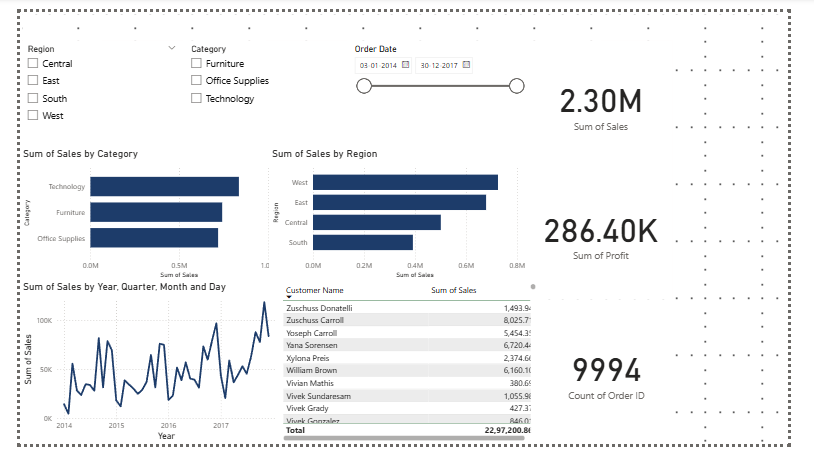

Layout of this report page (visuals, bound fields, positions):
{"tool":"powerbi","page":{"name":"Page 1","canvas":[1280,720],"ordinal":0},"visuals":[{"type":"card","fields":{"Values":["Sum(cleaned_superstore.Sales)"]},"box":[848,48,240,208],"z":0},{"type":"card","fields":{"Values":["Sum(cleaned_superstore.Profit)"]},"box":[848,256,240,224],"z":1000},{"type":"card","fields":{"Values":["CountNonNull(cleaned_superstore.Order ID)"]},"box":[864,480,224,240],"z":2000},{"type":"lineChart","fields":{"Y":["Sum(cleaned_superstore.Sales)"],"Category":["cleaned_superstore.Month.Variation.Date Hierarchy.Year","cleaned_superstore.Month.Variation.Date Hierarchy.Quarter","cleaned_superstore.Month.Variation.Date Hierarchy.Month","cleaned_superstore.Month.Variation.Date Hierarchy.Day"]},"box":[0,448,432,272],"z":3000},{"type":"slicer","fields":{"Values":["cleaned_superstore.Region"]},"box":[0,48,272,176],"z":4000},{"type":"slicer","fields":{"Values":["cleaned_superstore.Category"]},"box":[272,48,272,176],"z":5000},{"type":"slicer","fields":{"Values":["cleaned_superstore.Order Date"]},"box":[544,48,304,176],"z":6000},{"type":"clusteredBarChart","fields":{"Category":["cleaned_superstore.Category"],"Y":["Sum(cleaned_superstore.Sales)"]},"box":[0,224,432,224],"z":7000},{"type":"clusteredBarChart","fields":{"Category":["cleaned_superstore.Region"],"Y":["Sum(cleaned_superstore.Sales)"]},"box":[416,224,432,224],"z":8000},{"type":"tableEx","fields":{"Values":["cleaned_superstore.Customer Name","Sum(cleaned_superstore.Sales)"]},"box":[432,448,432,272],"z":9000}]}

Visuals, with their boxes in screenshot pixels (x1, y1, x2, y2), scaled from the page's 1280x720 canvas onto the 814x456 screenshot:
card - Sum(cleaned_superstore.Sales): [left=539, top=30, right=692, bottom=162]
card - Sum(cleaned_superstore.Profit): [left=539, top=162, right=692, bottom=304]
card - CountNonNull(cleaned_superstore.Order ID): [left=549, top=304, right=692, bottom=455]
lineChart - Sum(cleaned_superstore.Sales) x cleaned_superstore.Month.Variation.Date Hierarchy.Year: [left=0, top=284, right=275, bottom=455]
slicer - cleaned_superstore.Region: [left=0, top=30, right=173, bottom=142]
slicer - cleaned_superstore.Category: [left=173, top=30, right=346, bottom=142]
slicer - cleaned_superstore.Order Date: [left=346, top=30, right=539, bottom=142]
clusteredBarChart - cleaned_superstore.Category x Sum(cleaned_superstore.Sales): [left=0, top=142, right=275, bottom=284]
clusteredBarChart - cleaned_superstore.Region x Sum(cleaned_superstore.Sales): [left=265, top=142, right=539, bottom=284]
tableEx - cleaned_superstore.Customer Name x Sum(cleaned_superstore.Sales): [left=275, top=284, right=549, bottom=455]
